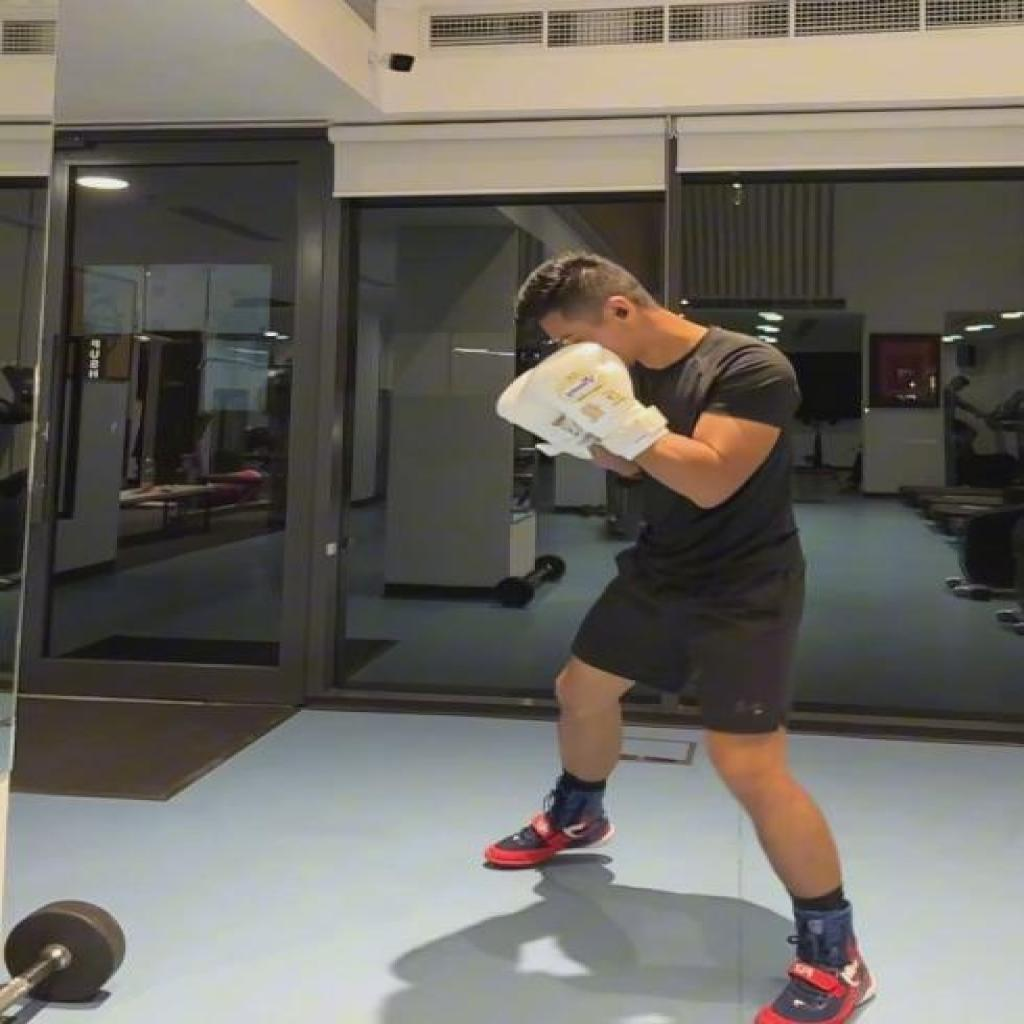no punch: (478, 253, 880, 1024)
